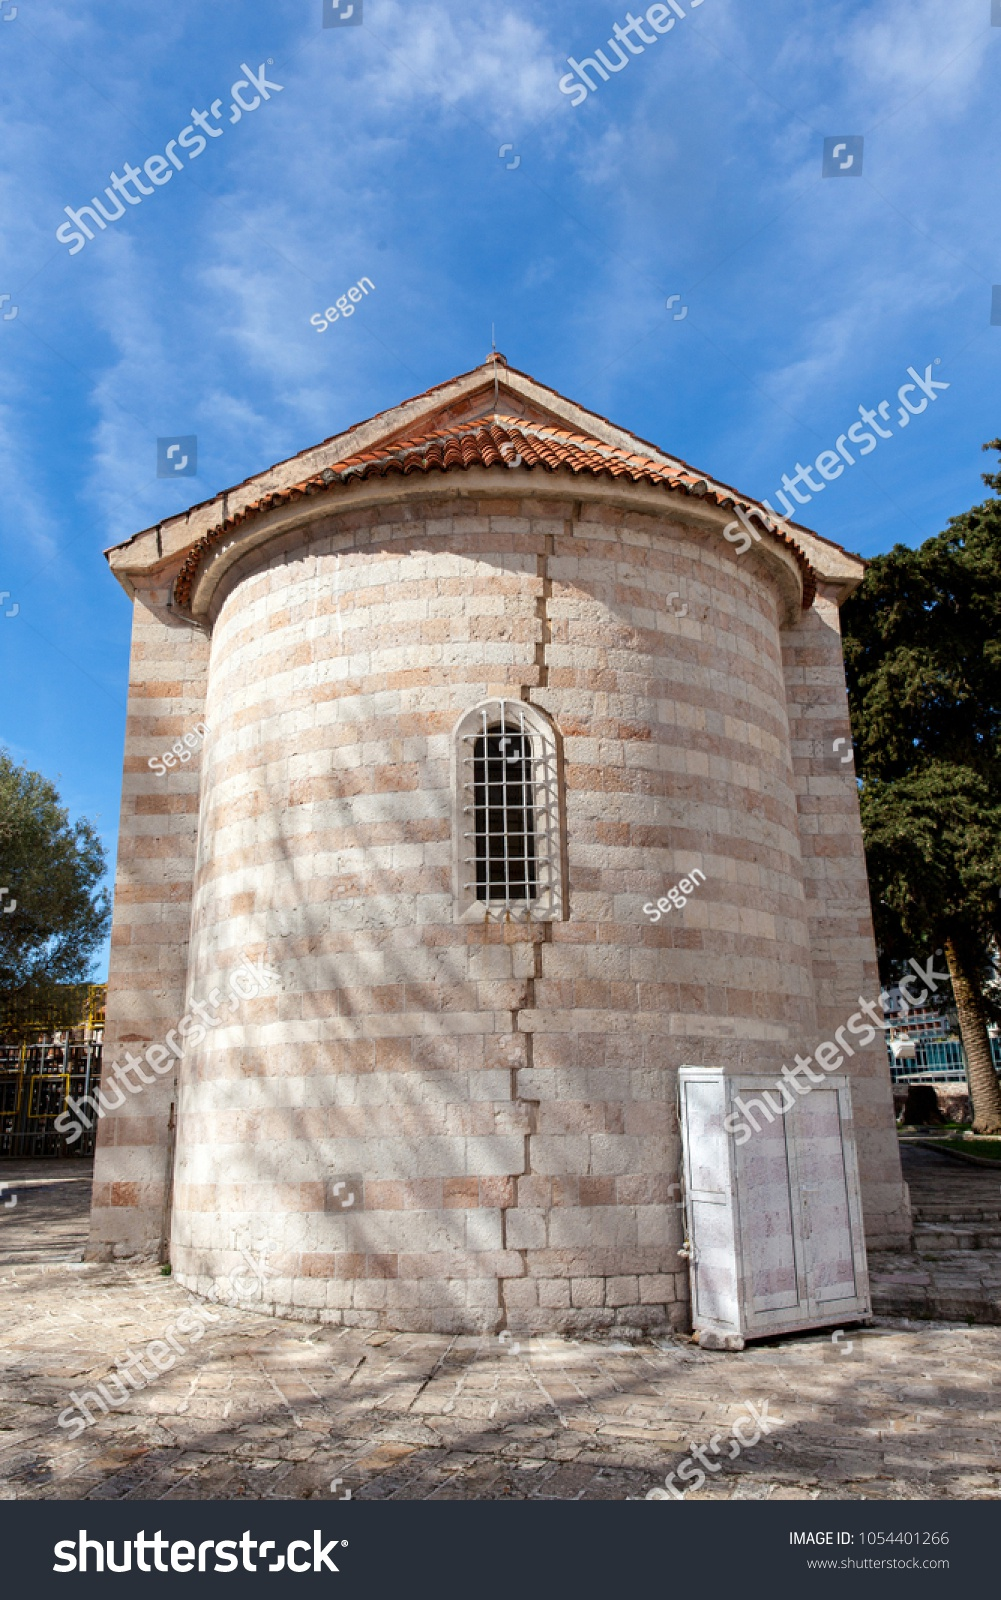crack: (492, 1076, 567, 1197), (488, 929, 558, 1049), (476, 1223, 541, 1333), (527, 495, 574, 631), (502, 648, 575, 690)
